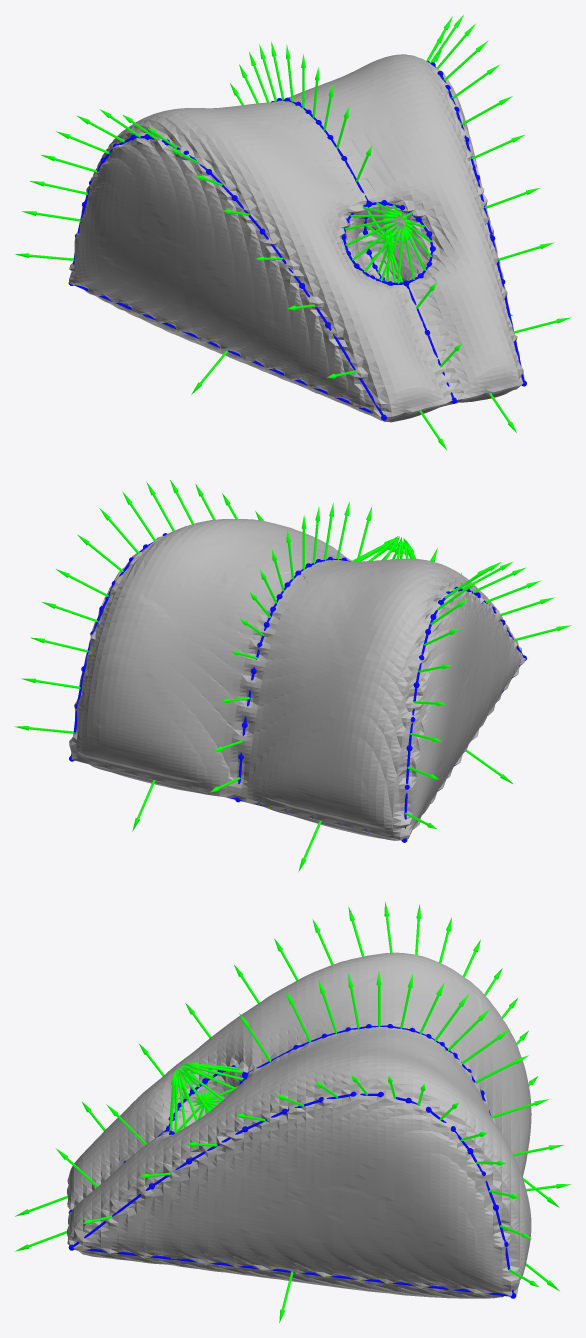
File: onshape_simple_mouse.gltf
The picture shows the model from 3 angles, top to bottom: view 1: azimuth 30°, elevation 25°; view 2: azimuth 150°, elevation 25°; view 3: azimuth 270°, elevation 25°; orthographic projection. The views are drawn at different scales.
Size of the model in its own units: 0.7986 by 0.5275 by 0.8921.
